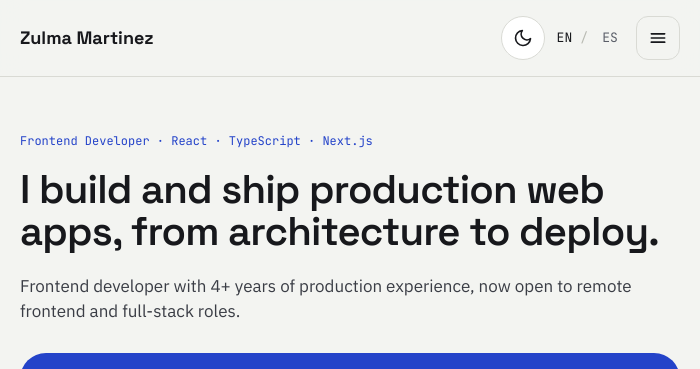
Test: sticky header › keeps the open mobile menu within a short screen
The width and height of the screenshot is (700, 369).
Expected: the button named "Switch to dark mode" is shown, [501,16,545,60]
What coordinates should you click on to do the following:
click the button named "Open menu"
I would click on:
 (658, 38)
Its box is [636,16,680,60].
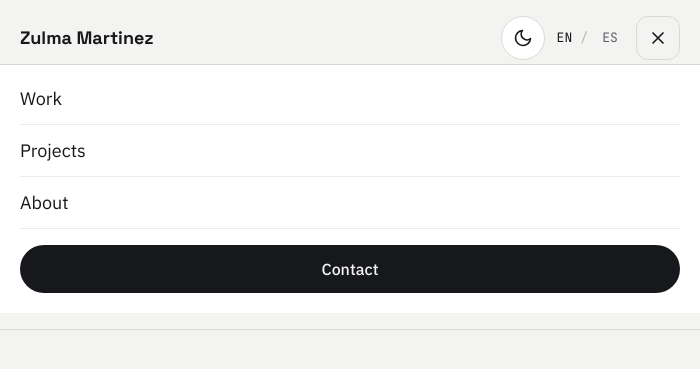
Now the link with id "contact" is shown, box [20,245,680,293]
